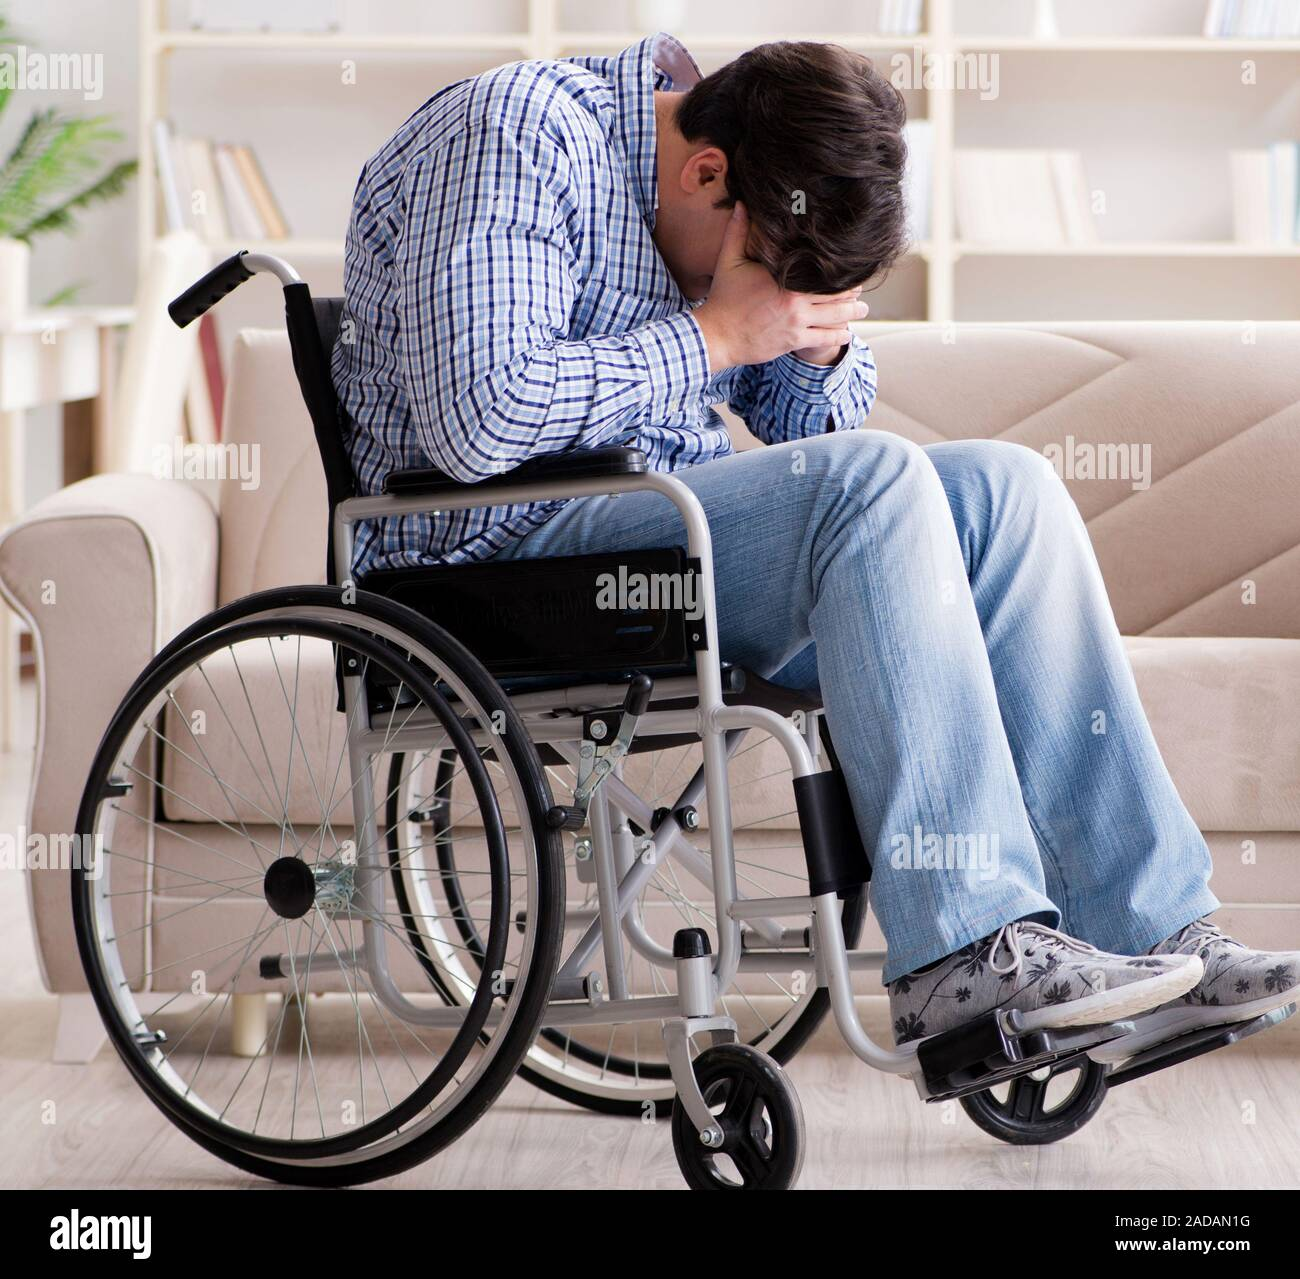wheelchair: (66, 30, 1298, 1186)
